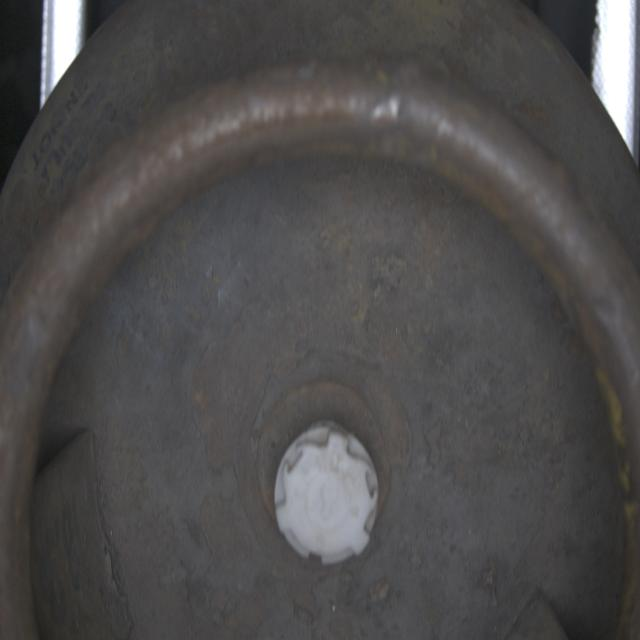Cap: (271, 421, 384, 568)
